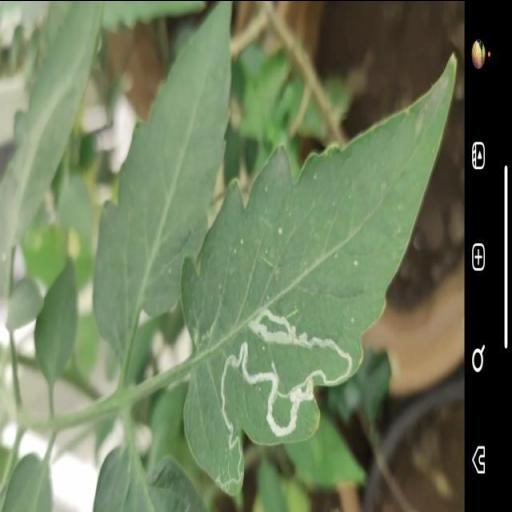disease_tomato: (184, 52, 458, 496)
